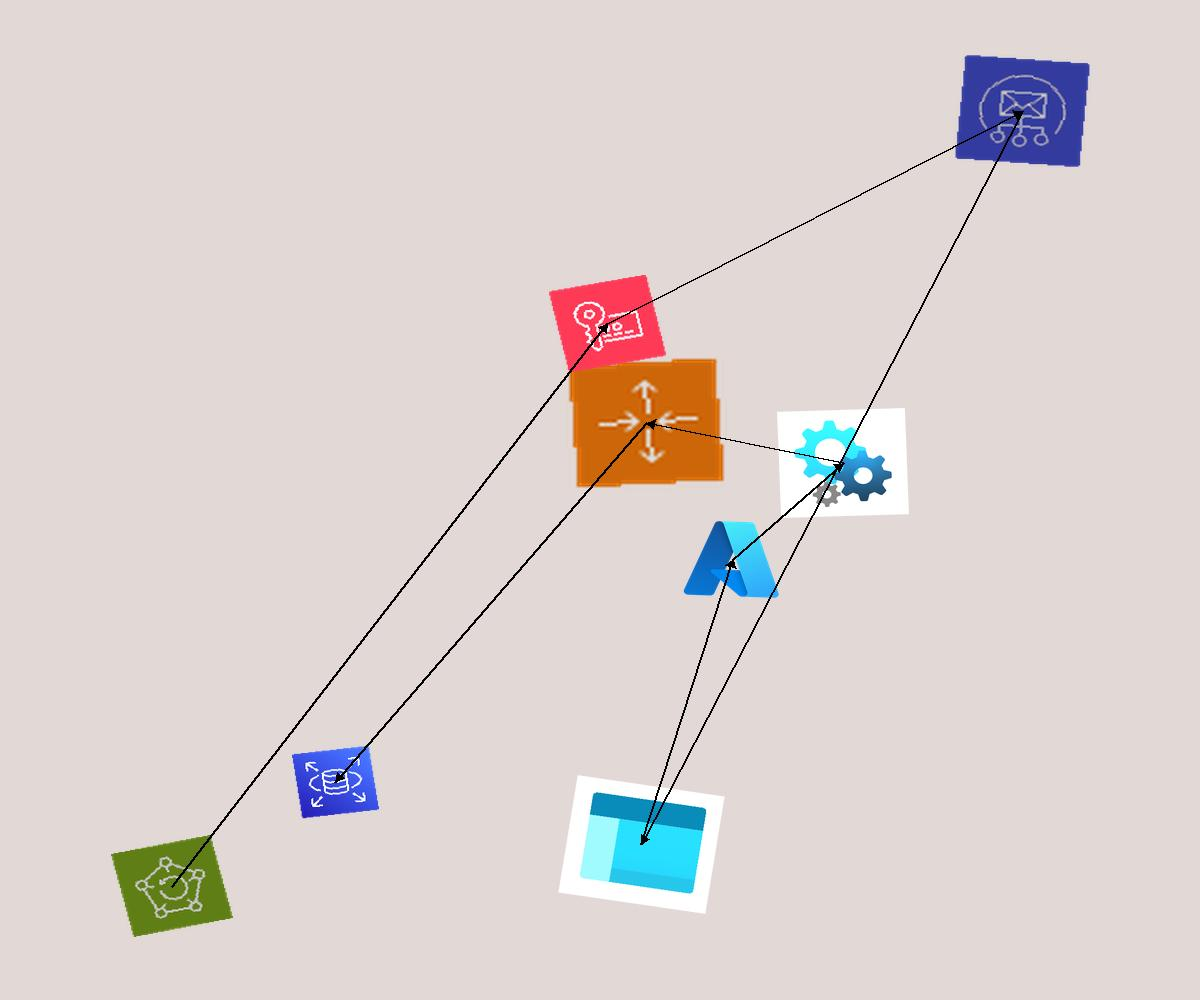AWS-Backup: (111, 835, 233, 937)
AWS-Key-Management-Service: (548, 274, 667, 373)
AWS-RDS: (291, 745, 380, 819)
AWS-Scaling-group: (566, 356, 727, 490)
AWS-Simple-Email-Service: (954, 54, 1091, 168)
Azure_api: (777, 408, 909, 518)
Azure_management-portal: (558, 775, 725, 914)
Azure_services: (679, 514, 787, 604)
